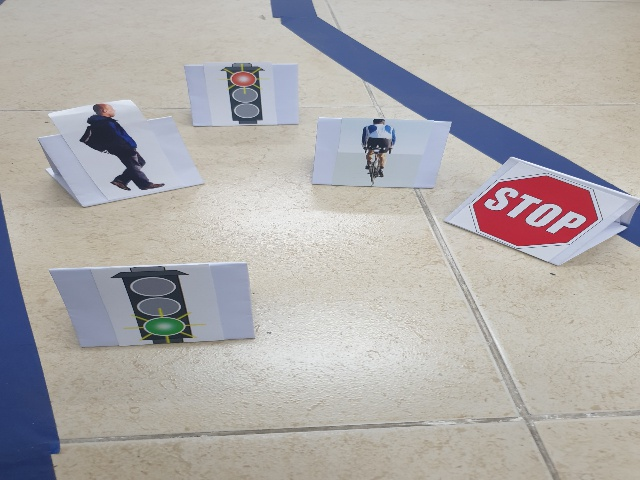Cyclist: (348, 119, 403, 185)
Green Light: (118, 268, 208, 343)
Person: (74, 104, 168, 193)
Red Light: (218, 63, 273, 124)
Stop: (469, 175, 601, 248)
